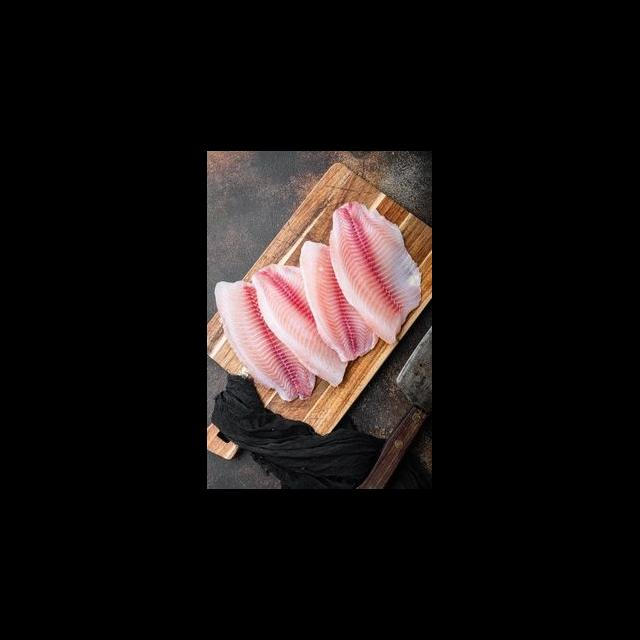fish: (327, 196, 427, 347)
